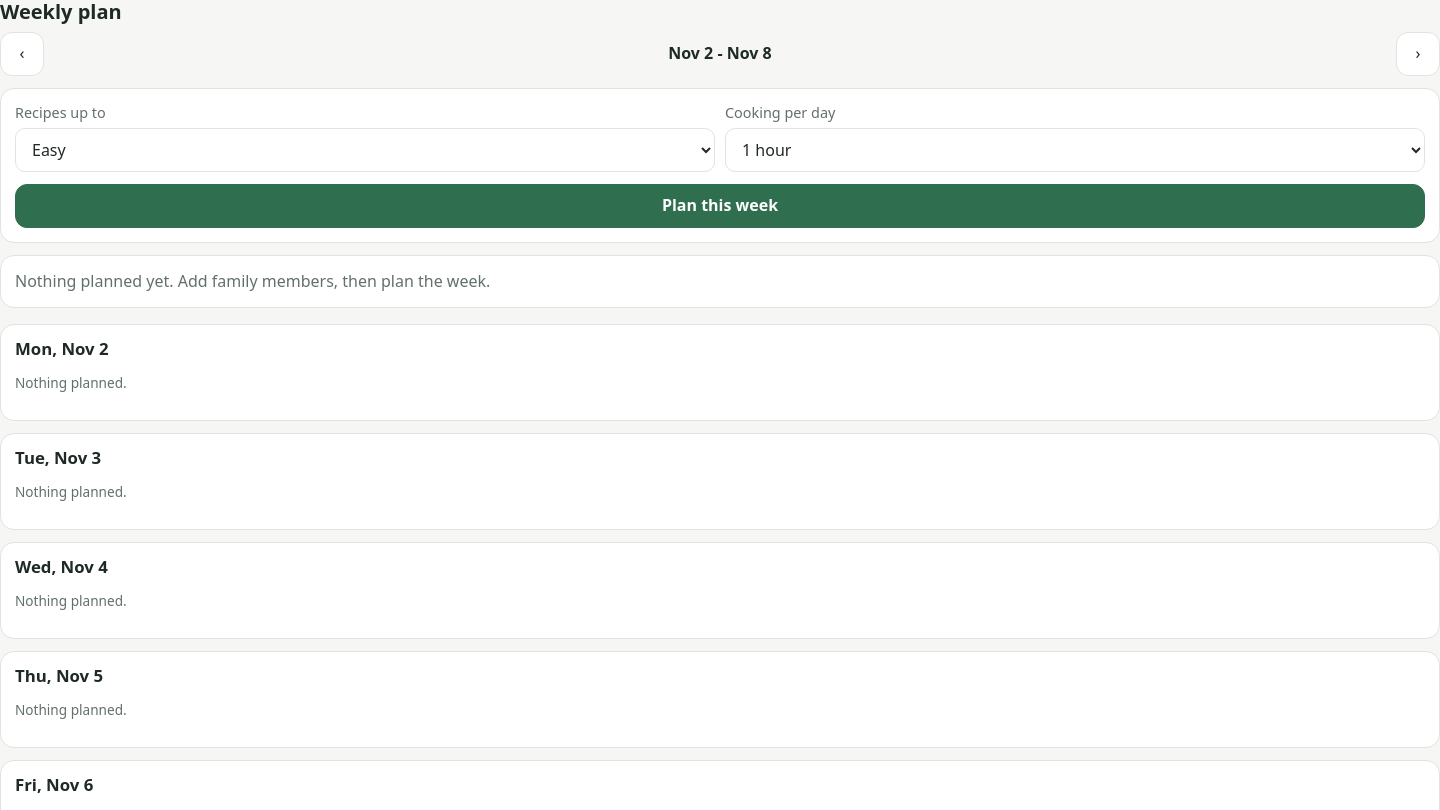
it: Plan › sends the chosen limits when generating
This screenshot has width=1440, height=810.
Select "Medium" in the dropdown labelled "Recipes up to" at (365, 150), box x1=15 y1=128 x2=715 y2=172
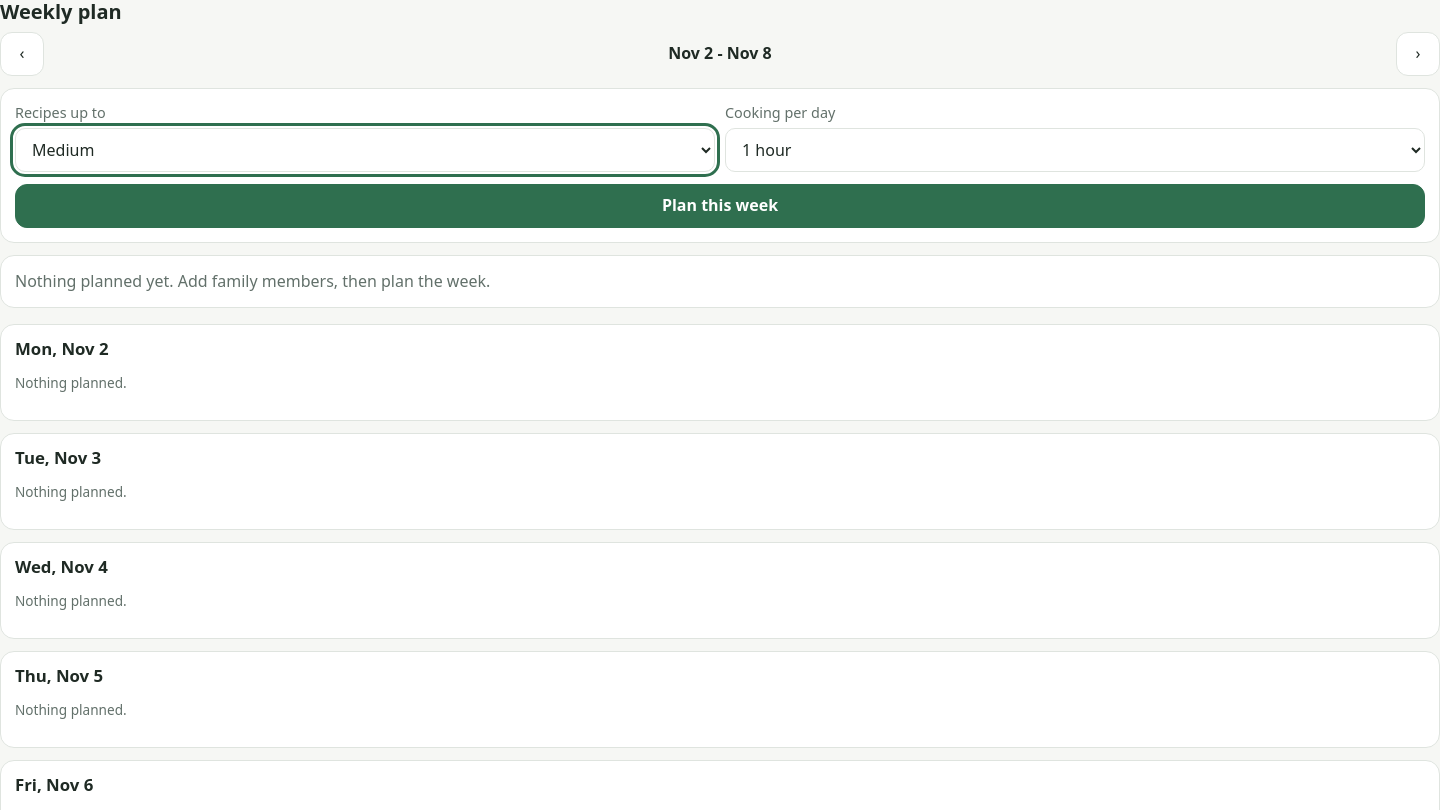
Select "1.5 hours" in the dropdown labelled "Cooking per day" at (1075, 150), box x1=725 y1=128 x2=1425 y2=172
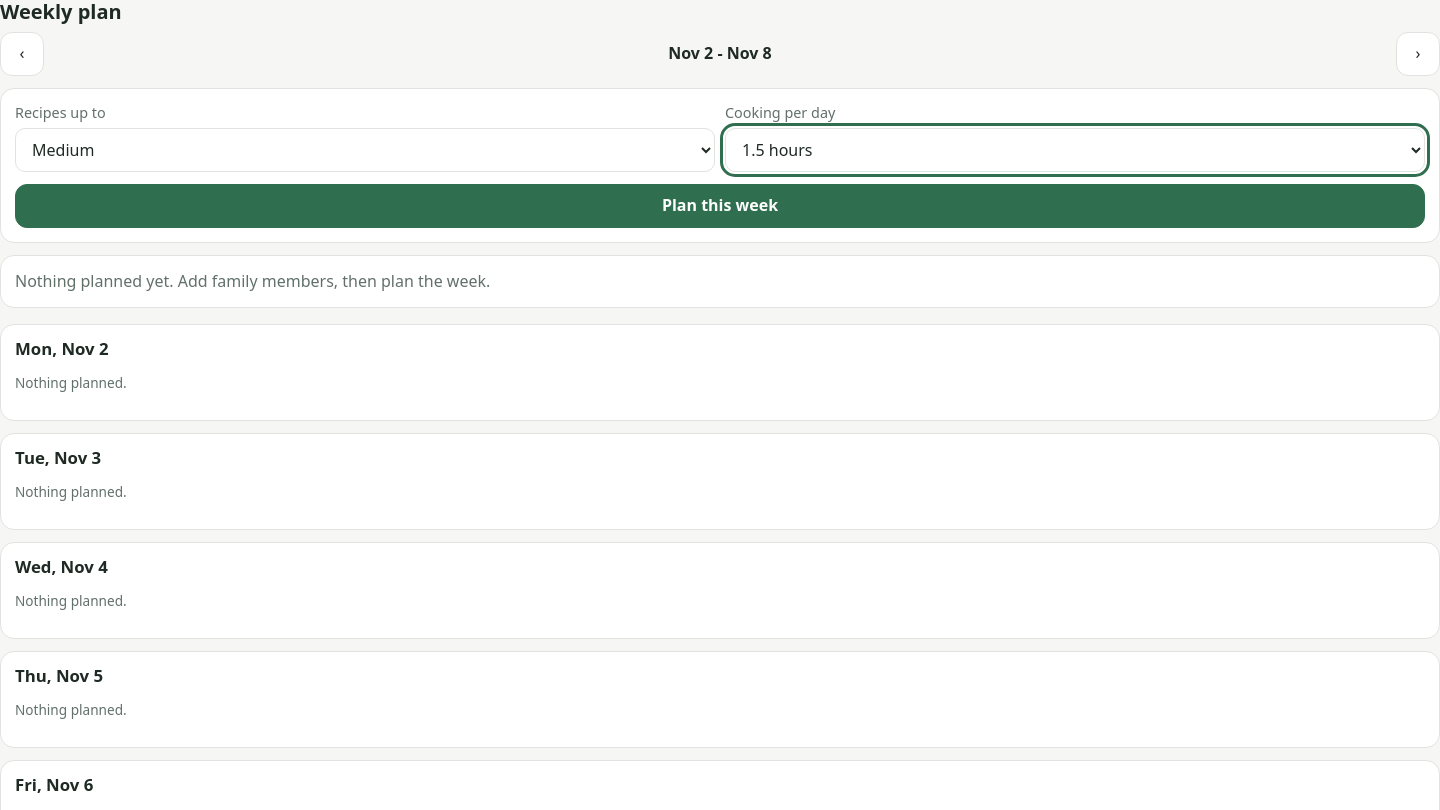
Click the button "Plan this week" at (720, 206), box x1=15 y1=184 x2=1425 y2=228
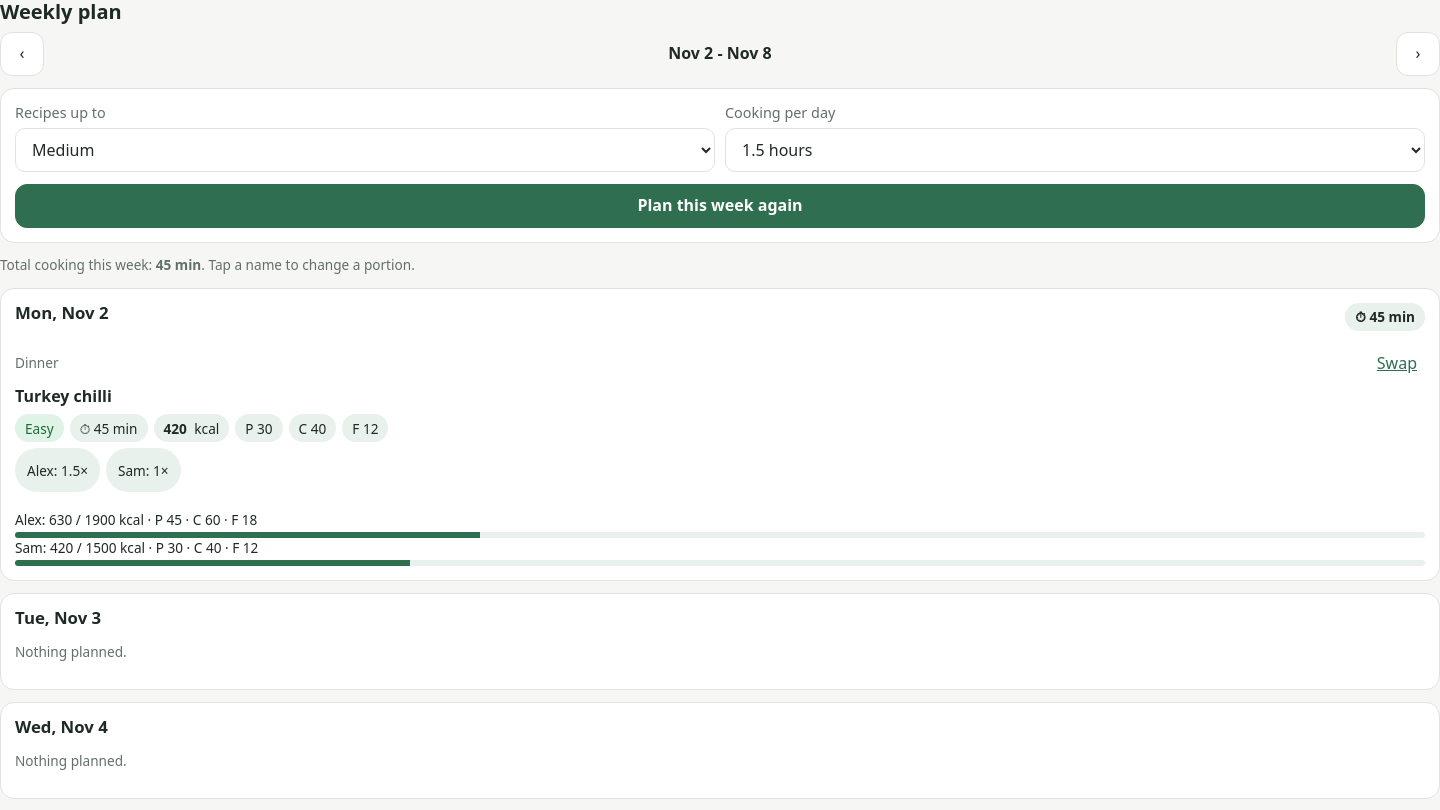
expect the text "Turkey chilli" is shown: met, box x1=15 y1=385 x2=112 y2=407
expect the text "Total cooking this week" shows "45 min": met, box x1=156 y1=255 x2=201 y2=274
